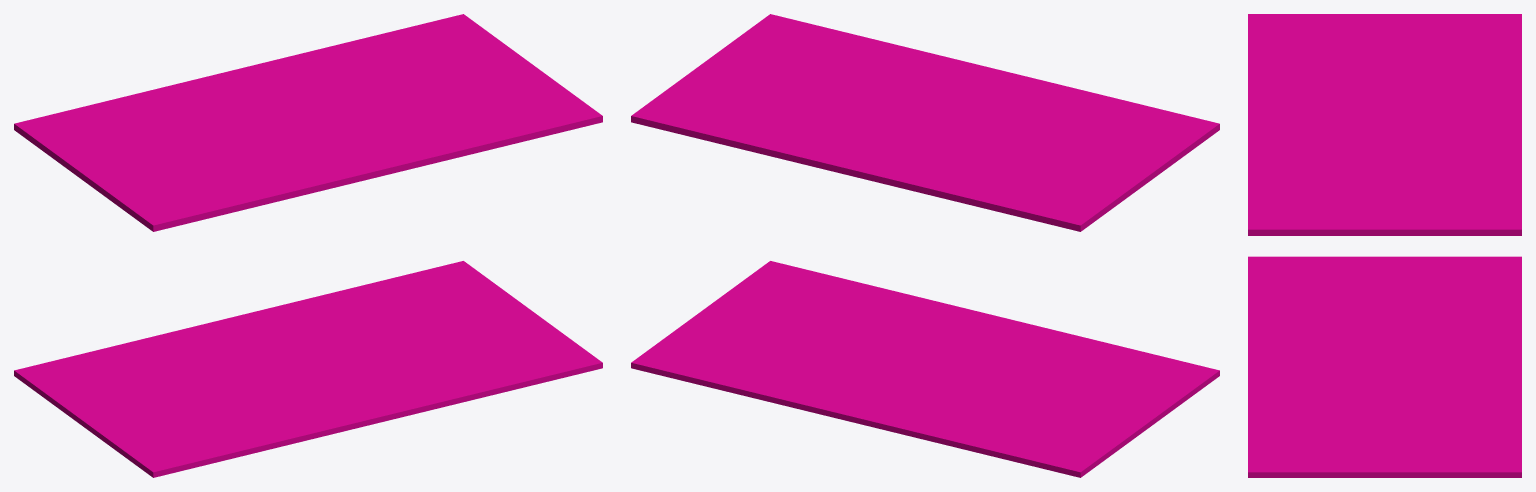
File: Ship_Window_01.fbx
3 views of the same model, side by side, from view 1: azimuth 30°, elevation 25°; view 2: azimuth 150°, elevation 25°; view 3: azimuth 270°, elevation 25° (orthographic).
Parts seen in each view (by area): view 1: ShipWindow; view 2: ShipWindow; view 3: ShipWindow.
Part boxes in pixels (x1=…): ShipWindow: x1=14, y1=14, x2=602, y2=477; ShipWindow: x1=631, y1=14, x2=1219, y2=477; ShipWindow: x1=1248, y1=14, x2=1521, y2=477.
Bounding box in the file's own units: 3018 × 1619 × 1619.
